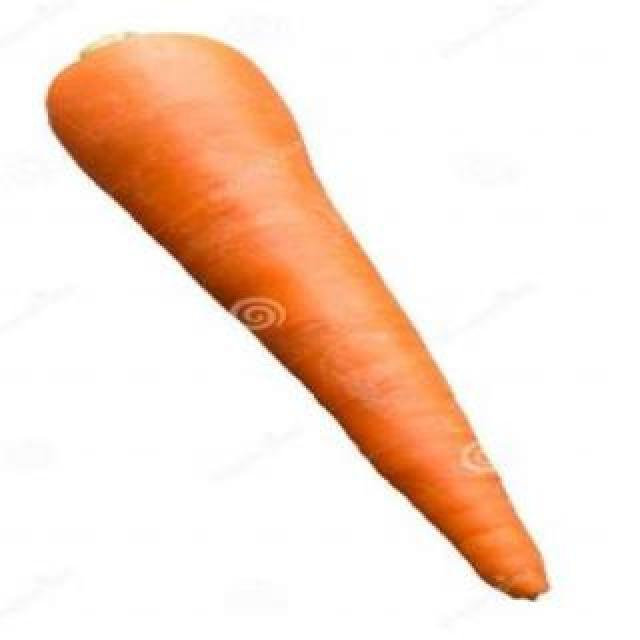carrot: (33, 13, 581, 608)
